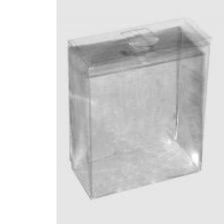plastic_box: (61, 8, 217, 206)
